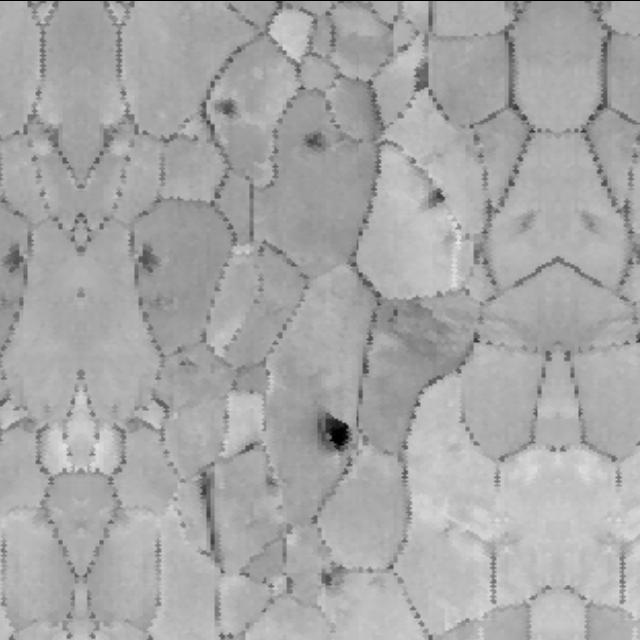good_void: (384, 298, 450, 349), (314, 405, 359, 462), (196, 464, 219, 513), (406, 64, 444, 93), (139, 234, 163, 278), (0, 234, 24, 278), (421, 182, 450, 213), (212, 90, 245, 117), (300, 124, 333, 150), (514, 207, 542, 236), (576, 207, 604, 236), (323, 557, 354, 580), (179, 358, 200, 368)
